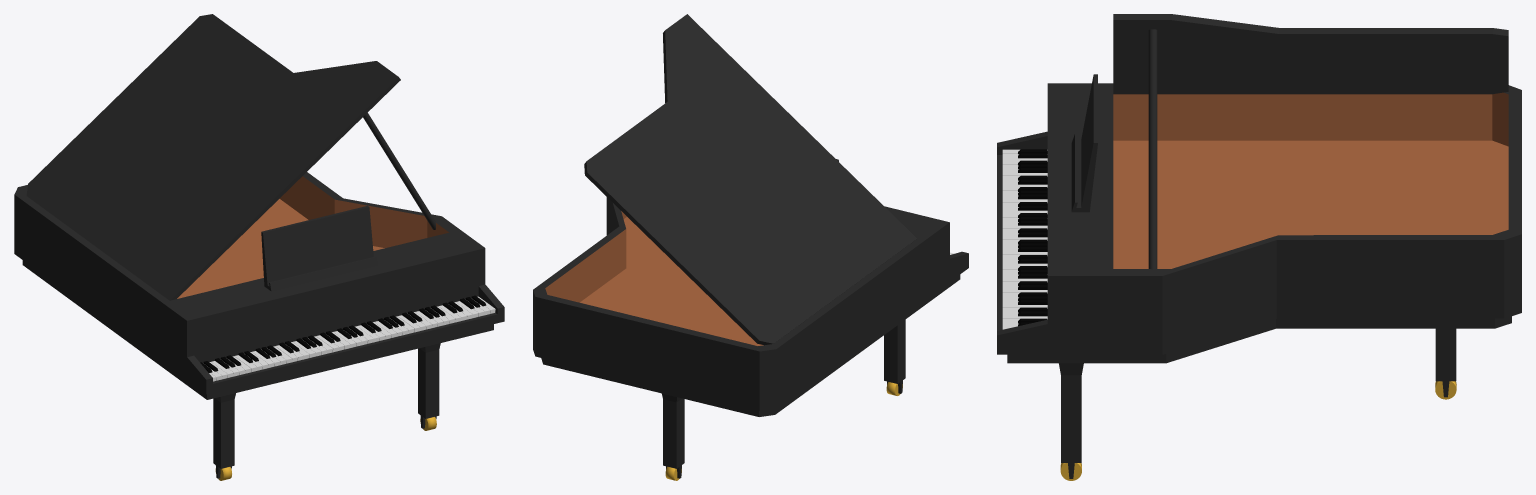
Rendered from PianoBlack.glb.
3 views of the same model, side by side, from view 1: azimuth 30°, elevation 25°; view 2: azimuth 150°, elevation 25°; view 3: azimuth 270°, elevation 25° (orthographic). The views are drawn at different scales.
Visible parts, largest first — view 1: Cube.002; view 2: Cube.002; view 3: Cube.002.
Boxes of the visible parts, x1,y1,x2,y2 form: Cube.002: (14, 14, 504, 480); Cube.002: (533, 14, 968, 480); Cube.002: (997, 14, 1521, 480).
Bounding box in the file's own units: 2 × 2.21 × 2.3.
